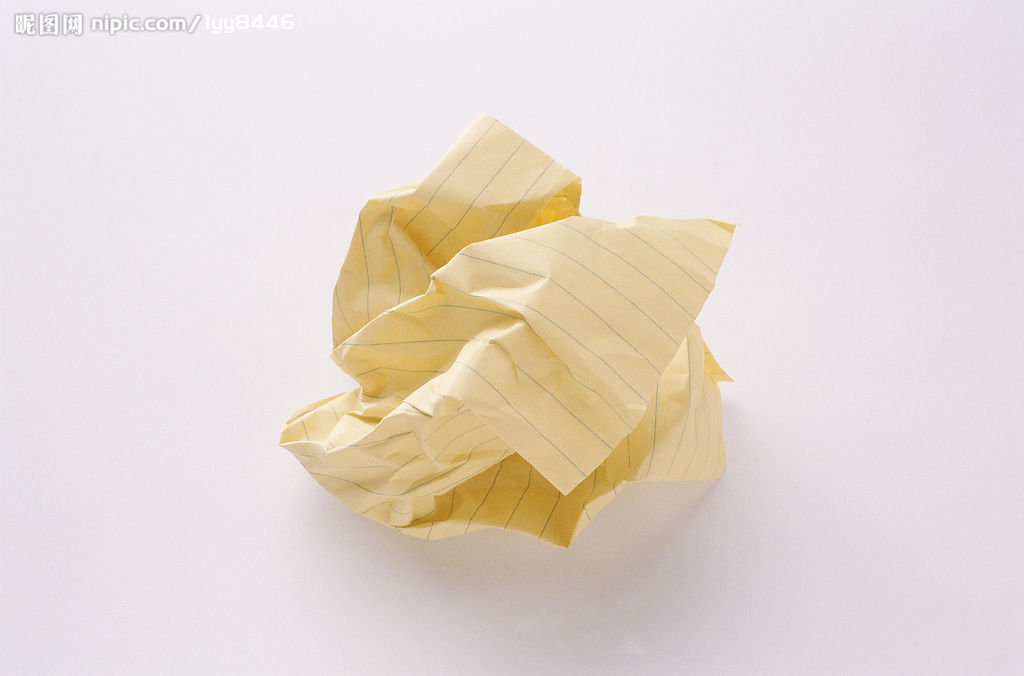flexible: (276, 111, 739, 555)
